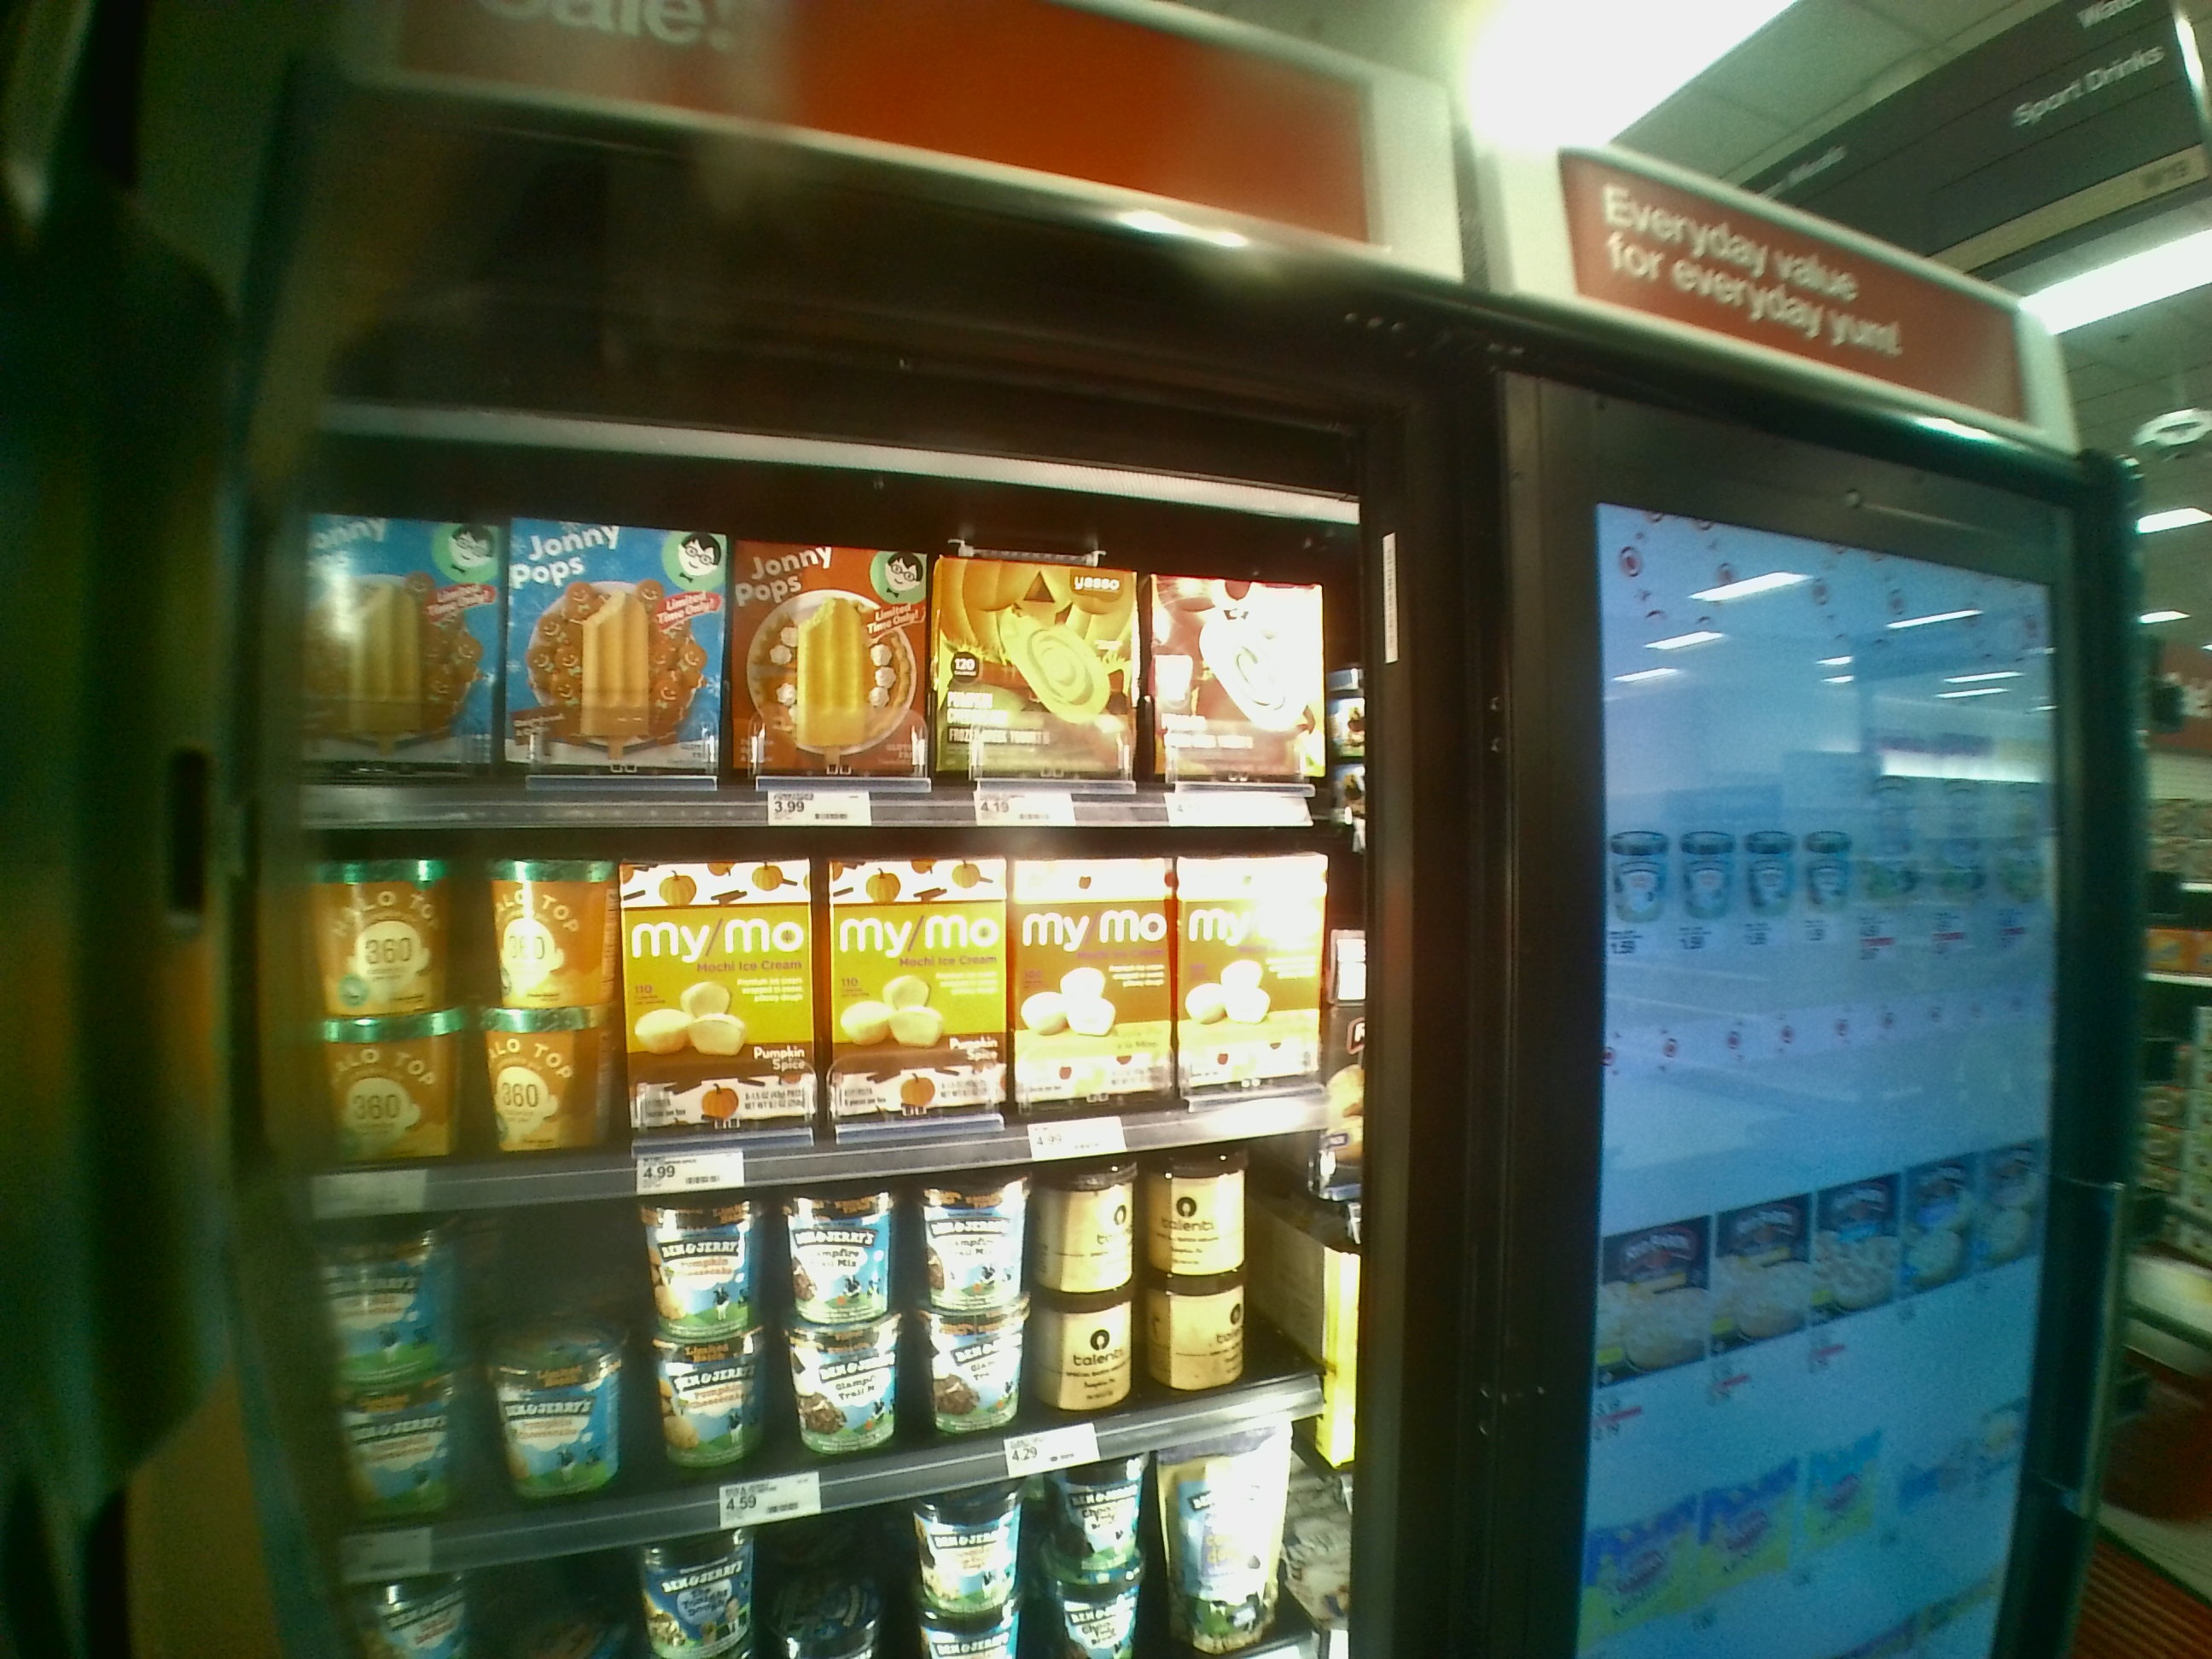shelf: (298, 462, 1364, 829), (284, 826, 1362, 1185), (307, 1202, 1353, 1507)
